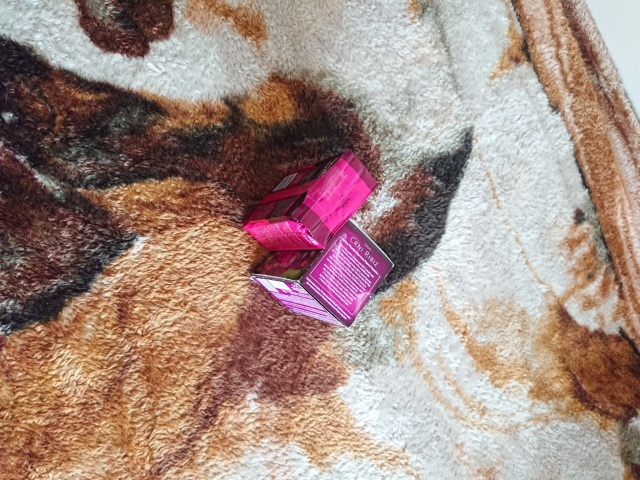Barcaffe Classic Original 225g: (239, 147, 382, 255)
Franck Black Currant Tea 60g: (246, 212, 397, 330)
